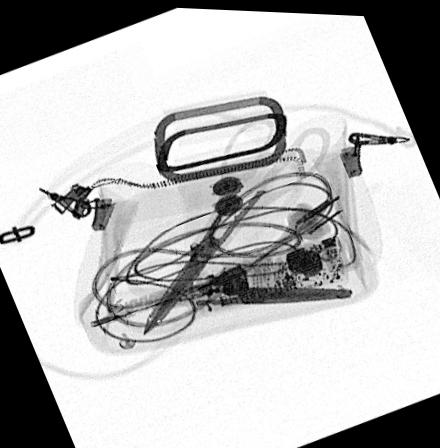Scissors: (135, 112, 334, 339), (98, 246, 355, 353)
